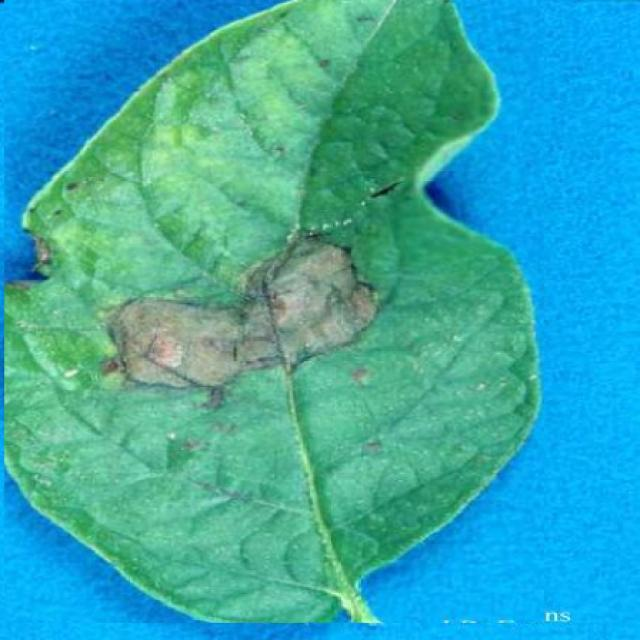Late Blight: (5, 1, 545, 624)
